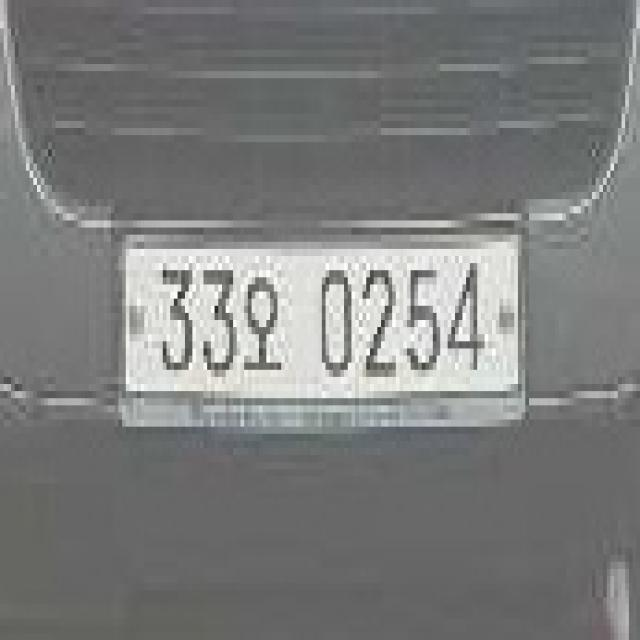0: (314, 256, 352, 377)
2: (359, 256, 396, 384)
3: (196, 256, 237, 377), (159, 256, 196, 384)
4: (440, 256, 485, 370)
5: (403, 263, 440, 377)
license_plate: (119, 235, 526, 405)
o: (240, 270, 285, 384)
